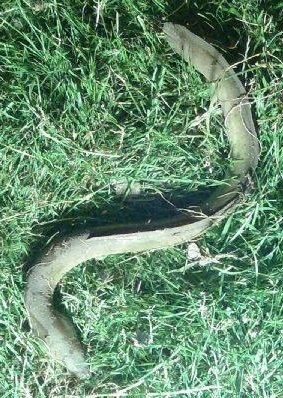Anguilla anguilla: (20, 20, 263, 378)
